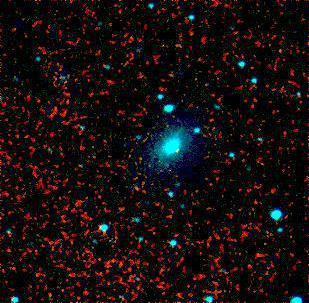star: (163, 136, 193, 166)
